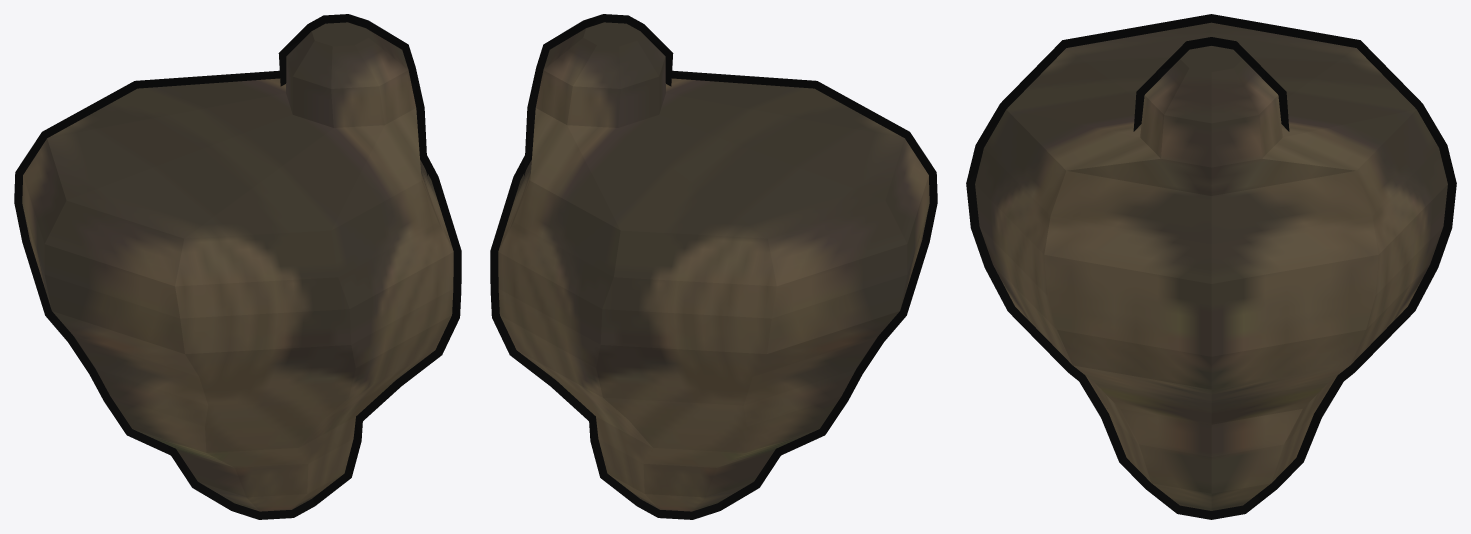
Rendered from Plant_Plant_PebbleCactus_Things_Plant_PebbleCactus_PebbleCactusB.glb.
The picture shows the model from 3 angles, left to right: view 1: azimuth 30°, elevation 25°; view 2: azimuth 150°, elevation 25°; view 3: azimuth 270°, elevation 25°; orthographic projection. The views are drawn at different scales.
Parts seen in each view (by area): view 1: Body, Outline; view 2: Body, Outline; view 3: Body, Outline.
Boxes of the visible parts, x1=… form: Body: x1=22, y1=22, x2=453, y2=511; Outline: x1=14, y1=14, x2=461, y2=519; Body: x1=498, y1=22, x2=929, y2=511; Outline: x1=490, y1=14, x2=937, y2=519; Body: x1=975, y1=22, x2=1447, y2=510; Outline: x1=966, y1=14, x2=1456, y2=519.
Bounding box in the file's own units: 0.8593 × 0.9375 × 0.8593.
2 materials, 1 textured.
